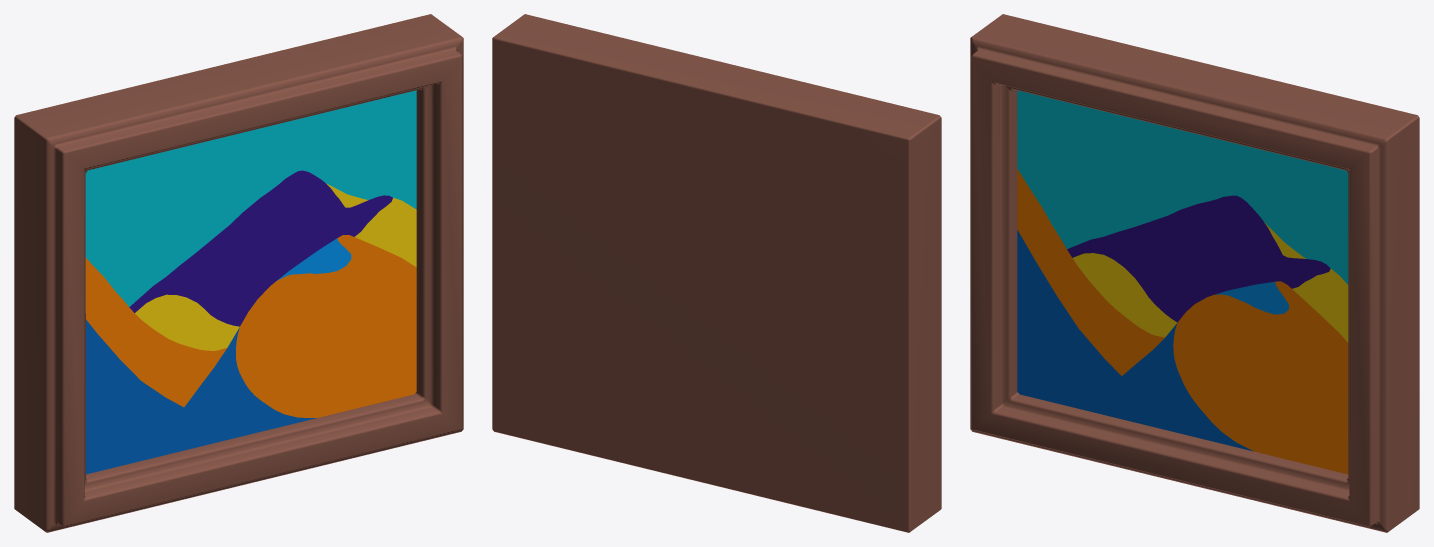
File: Public_9_Painting_2.glb
3 renders of one model, left to right at view 1: azimuth 30°, elevation 25°; view 2: azimuth 150°, elevation 25°; view 3: azimuth 330°, elevation 25°, orthographic.
Visible parts, largest first — view 1: Public_9_Painting_2; view 2: Public_9_Painting_2; view 3: Public_9_Painting_2.
Part boxes in pixels (x1=…): Public_9_Painting_2: x1=14, y1=14, x2=463, y2=532; Public_9_Painting_2: x1=492, y1=14, x2=941, y2=532; Public_9_Painting_2: x1=970, y1=14, x2=1419, y2=532.
Bounding box in the file's own units: 2.61 × 2.35 × 0.4414.
Materials: 1 (1 with a texture image).
